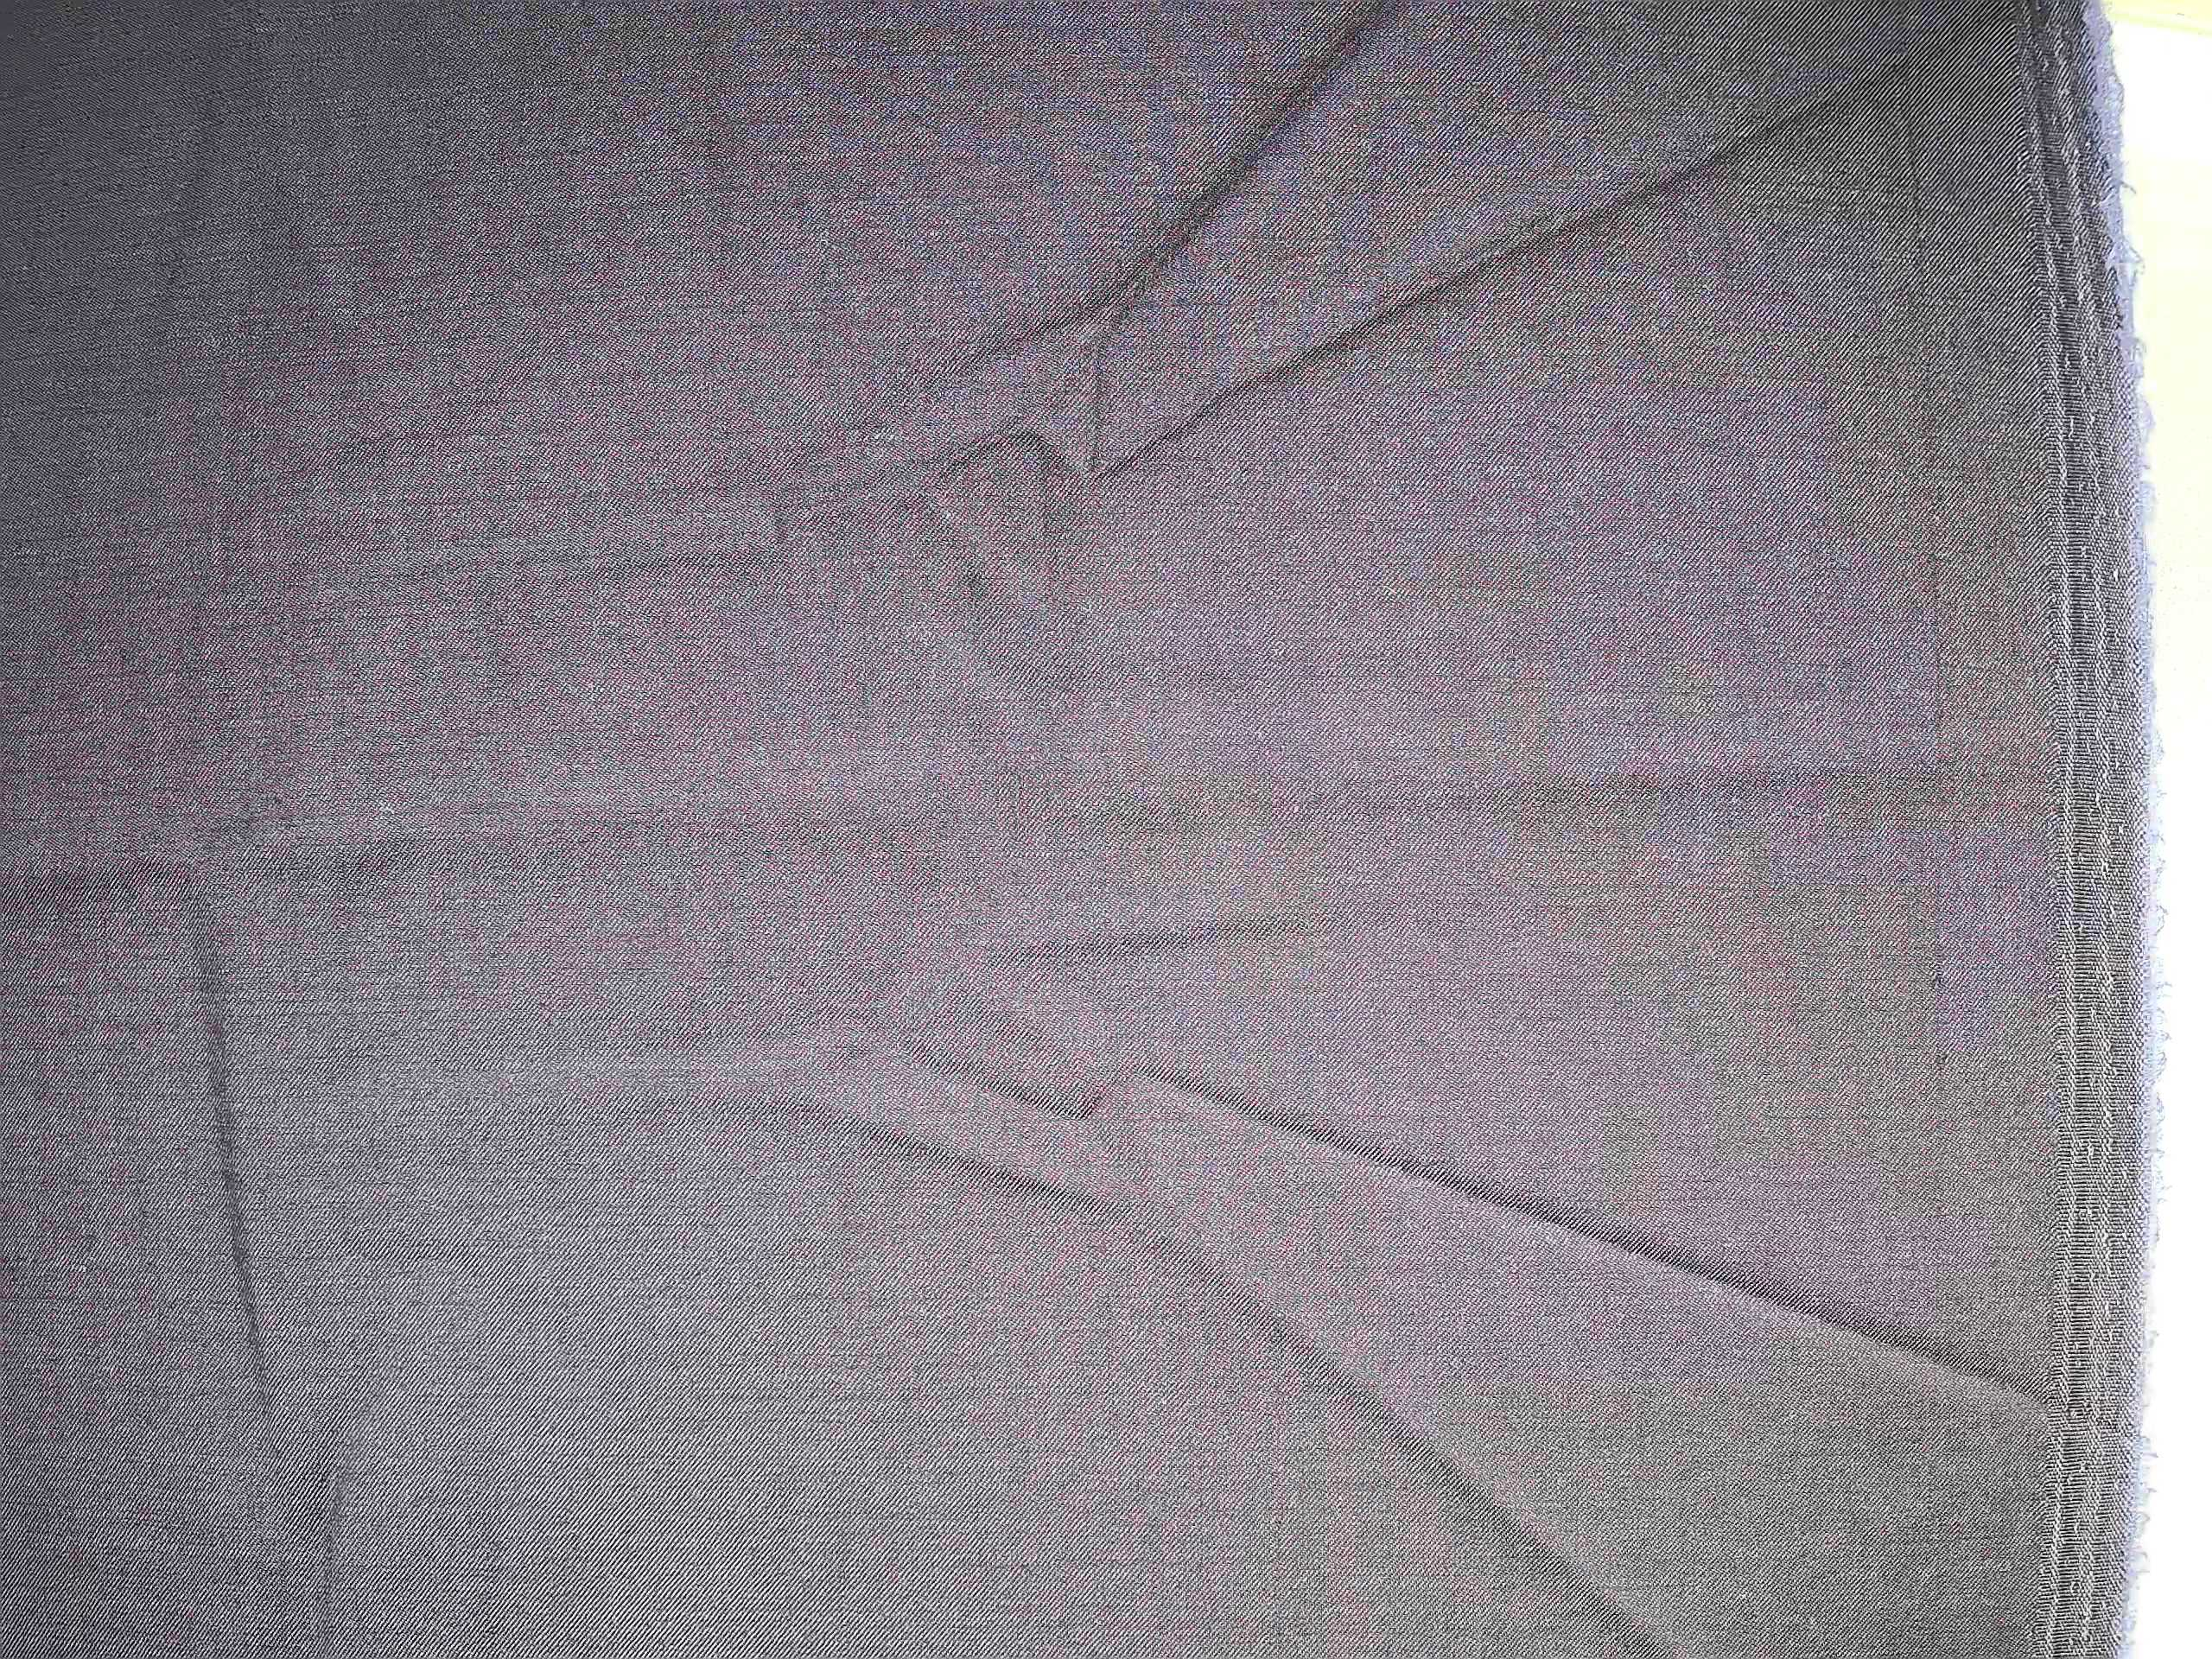others: (827, 458, 1287, 1060)
